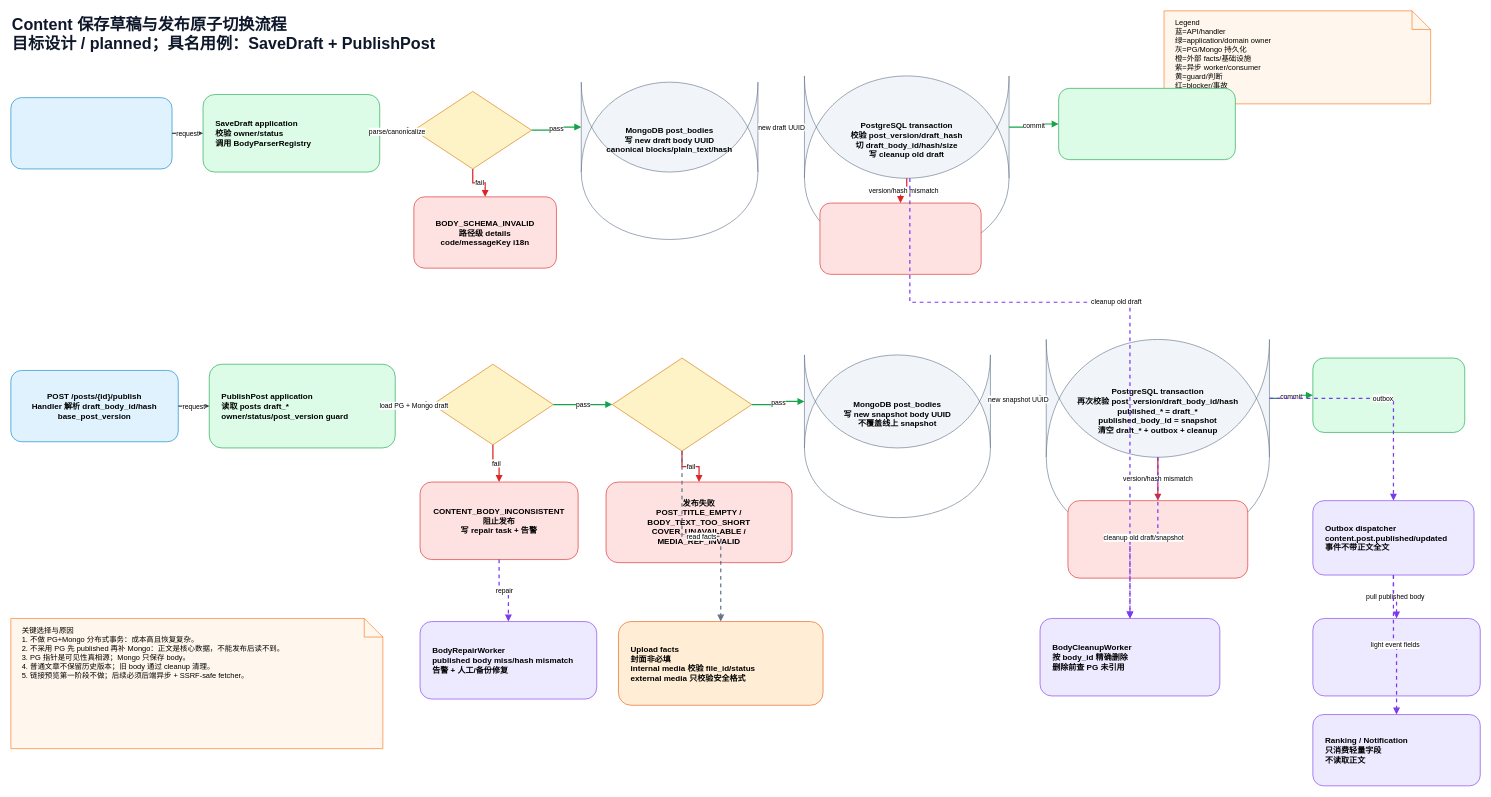
Some shapes in this 1491 by 797 pixel diagram are drawn without their labels. Each missing label, with the centre of its shape:
"blocks schema/hash 是否有效？" belongs at point 472,130.
"draft body 存在且 hash 匹配？" belongs at point 492,404.
"DRAFT_CONFLICT PG 不切指针 new draft 成 orphan" belongs at point 900,238.
"DRAFT_CONFLICT snapshot 未被 PG 引用 写 orphan cleanup" belongs at point 1157,539.
"PUT /posts/{id}/draft Handler 解析 meta/blocks base_post_version/base_draft_hash" belongs at point 91,133.
"Search consumer 按 bodyHash 拉 Content published body 不可用则重试/DLQ" belongs at point 1396,657.
"保存成功 PG.draft_body_id 指向新草稿 旧 draft 异步清理" belongs at point 1146,124.
"发布成功 详情页只读 PG.published_body_id 返回 publicPostId" belongs at point 1388,394.
"发布规则是否通过？ title 必填 plain_text >= 10 审核/媒体/封面 guard" belongs at point 682,404.
